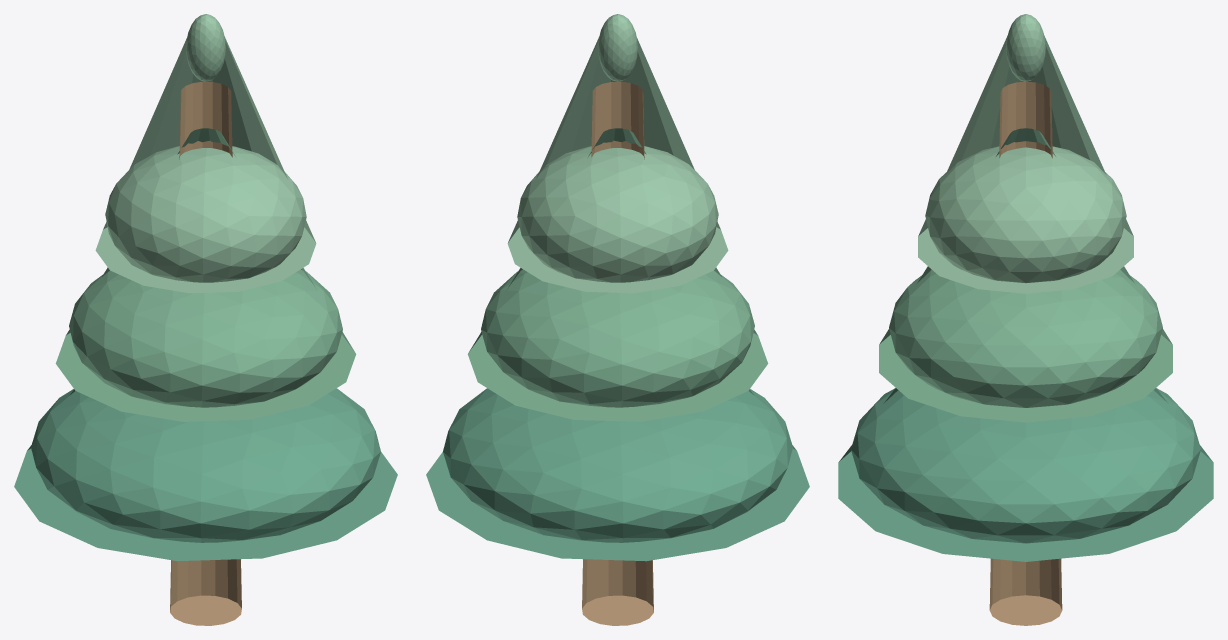
Rendered from tree_pine.glb.
3 renders of one model, left to right at view 1: azimuth 30°, elevation 25°; view 2: azimuth 150°, elevation 25°; view 3: azimuth 270°, elevation 25°, orthographic.
Parts seen in each view (by area): view 1: tree_pine_02_foliage_edge, tree_pine_04_foliage_edge, tree_pine_06_foliage_edge, tree_pine_01_foliage, tree_pine_05_foliage, tree_pine_00_trunk, tree_pine_03_foliage, tree_pine_07_top; view 2: tree_pine_02_foliage_edge, tree_pine_04_foliage_edge, tree_pine_06_foliage_edge, tree_pine_01_foliage, tree_pine_05_foliage, tree_pine_00_trunk, tree_pine_03_foliage, tree_pine_07_top; view 3: tree_pine_02_foliage_edge, tree_pine_04_foliage_edge, tree_pine_06_foliage_edge, tree_pine_01_foliage, tree_pine_05_foliage, tree_pine_00_trunk, tree_pine_03_foliage, tree_pine_07_top.
Part boxes in pixels (box(x1,y1,x2,y2)): tree_pine_02_foliage_edge: box(31, 388, 380, 542); tree_pine_04_foliage_edge: box(69, 269, 342, 407); tree_pine_06_foliage_edge: box(105, 146, 306, 282); tree_pine_01_foliage: box(14, 389, 397, 561); tree_pine_05_foliage: box(95, 37, 316, 293); tree_pine_00_trunk: box(170, 81, 241, 625); tree_pine_03_foliage: box(55, 128, 356, 421); tree_pine_07_top: box(186, 14, 225, 81); tree_pine_02_foliage_edge: box(443, 388, 792, 542); tree_pine_04_foliage_edge: box(481, 269, 754, 407); tree_pine_06_foliage_edge: box(517, 146, 718, 282); tree_pine_01_foliage: box(426, 389, 809, 561); tree_pine_05_foliage: box(507, 37, 728, 293); tree_pine_00_trunk: box(582, 81, 653, 625); tree_pine_03_foliage: box(467, 128, 768, 421); tree_pine_07_top: box(598, 14, 637, 81); tree_pine_02_foliage_edge: box(851, 388, 1200, 543); tree_pine_04_foliage_edge: box(889, 269, 1162, 407); tree_pine_06_foliage_edge: box(925, 146, 1126, 283); tree_pine_01_foliage: box(838, 388, 1213, 561); tree_pine_05_foliage: box(918, 36, 1133, 293); tree_pine_00_trunk: box(989, 81, 1062, 625); tree_pine_03_foliage: box(879, 128, 1172, 422); tree_pine_07_top: box(1006, 14, 1045, 81).
Bounding box in the file's own units: 2.12 × 3.62 × 2.07.
